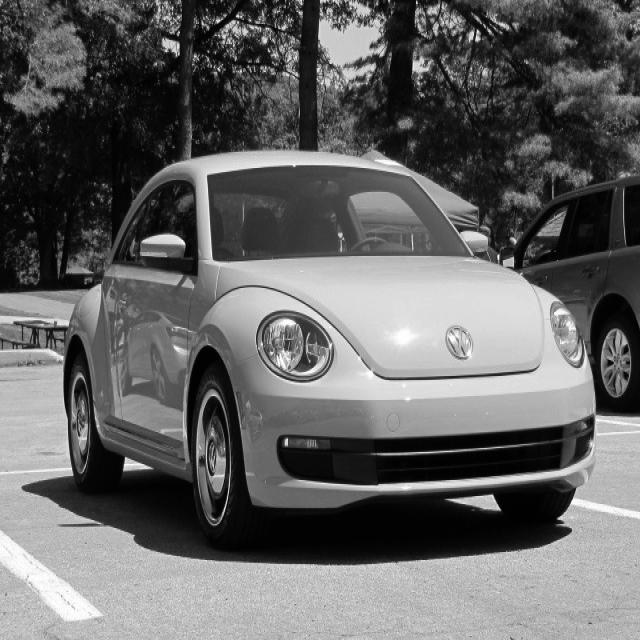car: (62, 147, 597, 549), (498, 173, 639, 412)
